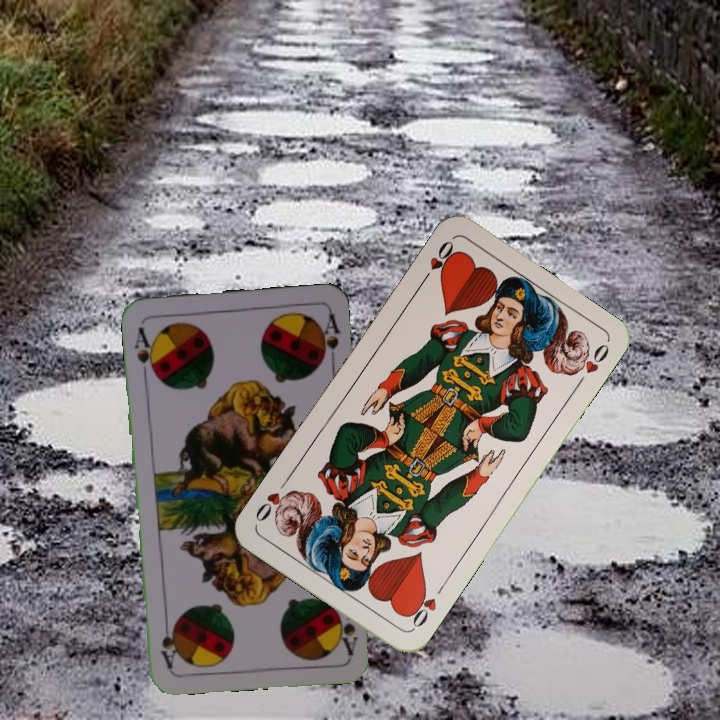HO: (403, 580, 447, 632), (416, 236, 458, 287)
SA: (130, 322, 159, 380), (334, 606, 361, 657)
